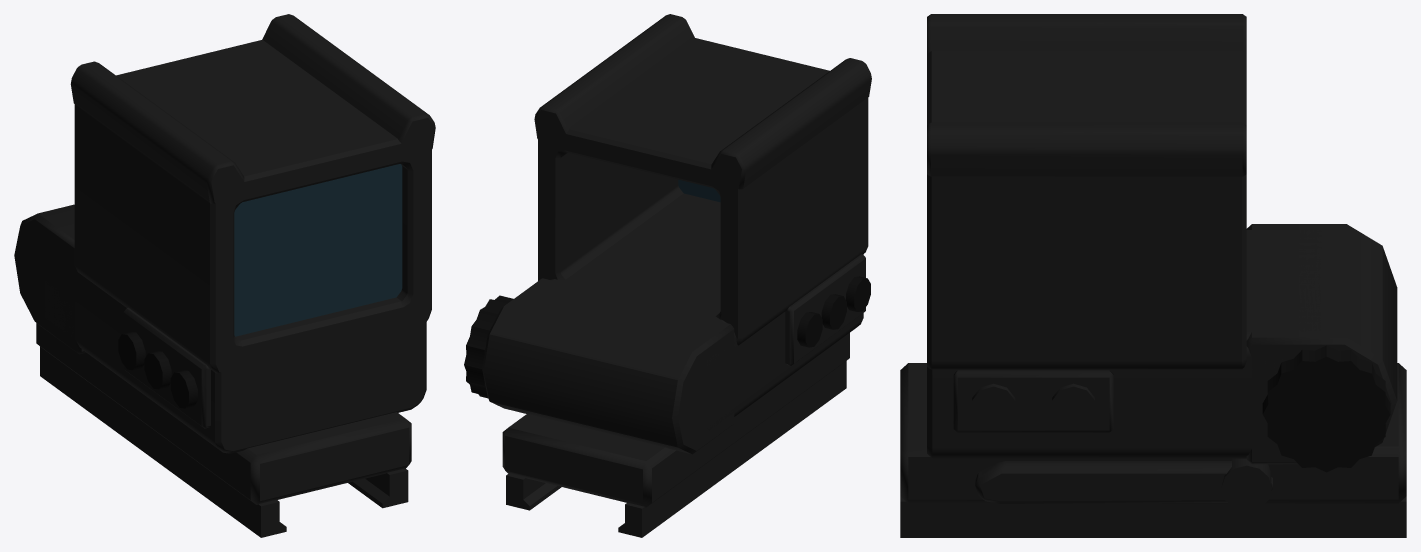
The model's file is holo.glb.
The picture shows the model from 3 angles, left to right: view 1: azimuth 30°, elevation 25°; view 2: azimuth 150°, elevation 25°; view 3: azimuth 270°, elevation 25°; orthographic projection. The views are drawn at different scales.
Parts seen in each view (by area): view 1: body; view 2: body; view 3: body.
Boxes of the visible parts, x1,y1,x2,y2 form: body: (14,14,435,537); body: (464,14,871,537); body: (900,14,1406,537).
Bounding box in the file's own units: 0.0494 × 0.0704 × 0.076.
